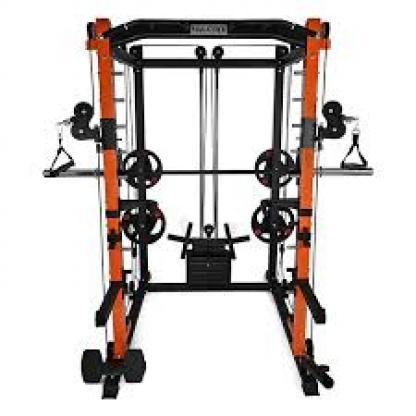smith machine: (43, 15, 375, 400)
